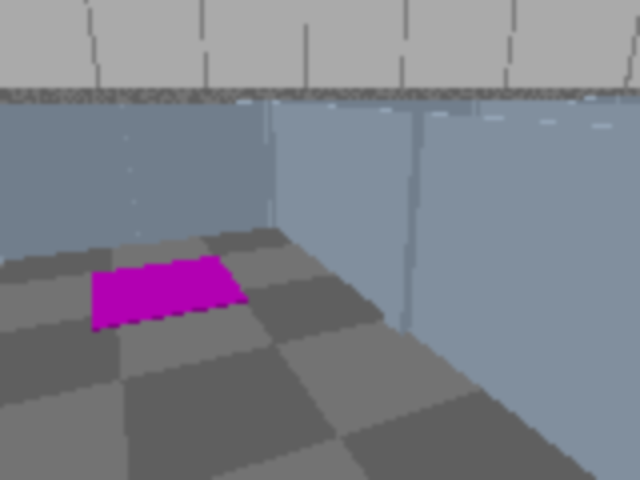goal_zone: (91, 256, 249, 331)
